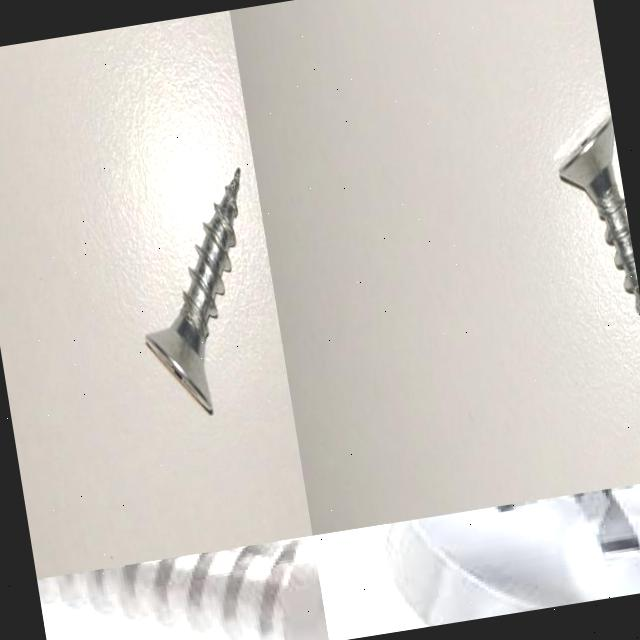Screw: (381, 484, 640, 628), (37, 536, 329, 640), (146, 168, 241, 413), (559, 115, 640, 314)
